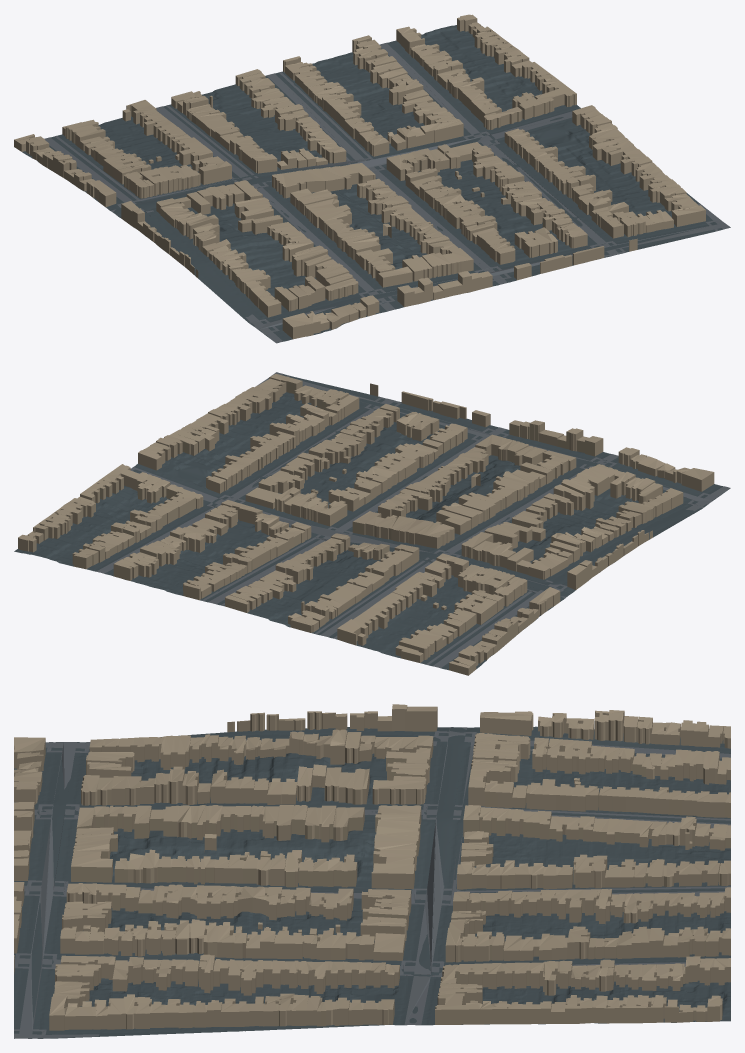
Rendered from epsg26910-1421-10888.lod0.glb.
3 views of the same model, one above another, from view 1: azimuth 30°, elevation 25°; view 2: azimuth 150°, elevation 25°; view 3: azimuth 270°, elevation 25° (orthographic). The views are drawn at different scales.
Visible parts, largest first — view 1: epsg26910-1421-10888-lod0; view 2: epsg26910-1421-10888-lod0; view 3: epsg26910-1421-10888-lod0.
Part boxes in pixels (x1,y1,x2,y2): epsg26910-1421-10888-lod0: [14, 14, 730, 343]; epsg26910-1421-10888-lod0: [14, 372, 730, 675]; epsg26910-1421-10888-lod0: [14, 704, 730, 1038].
Size of the model in its own units: 384 by 24.58 by 384.
